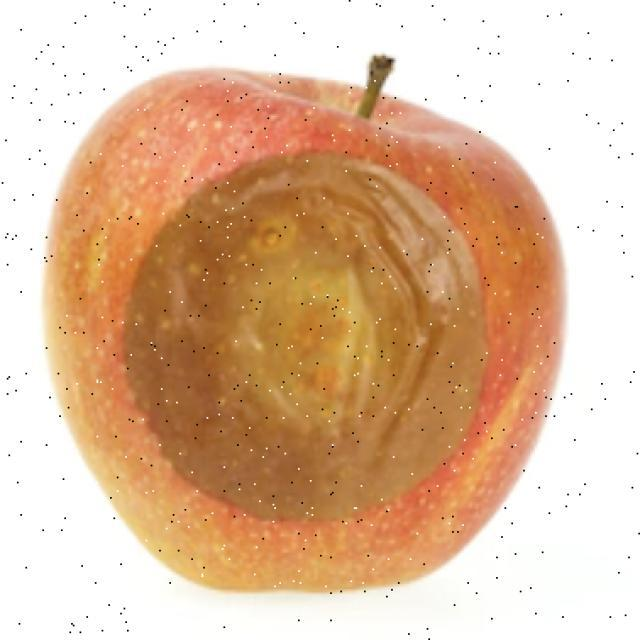Rotten: (54, 70, 574, 612)
